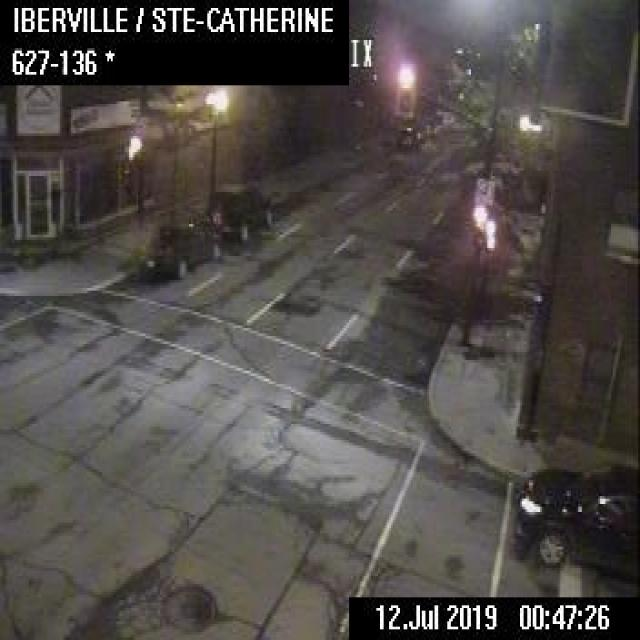vehicle: (512, 461, 638, 584), (138, 207, 222, 277), (205, 181, 274, 241), (396, 124, 418, 147)
